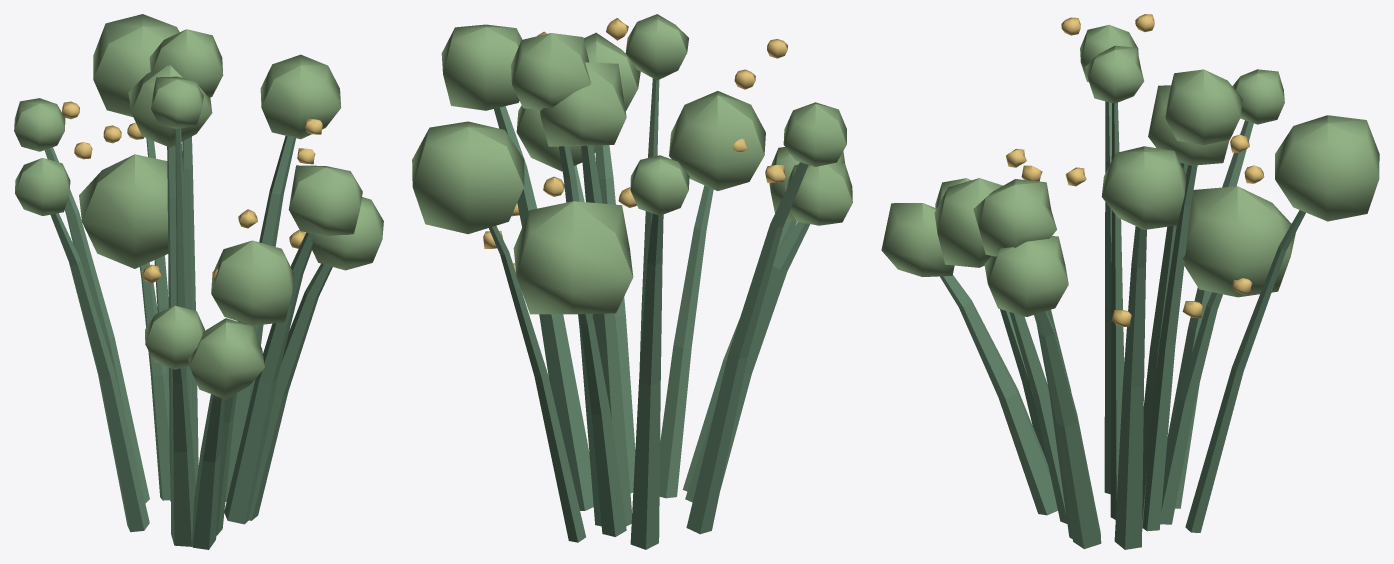
The model's file is dense-temperate-forest-flora-broom-bush-65990bb3__28367.glb.
3 views of the same model, side by side, from view 1: azimuth 30°, elevation 25°; view 2: azimuth 150°, elevation 25°; view 3: azimuth 270°, elevation 25° (orthographic). The views are drawn at different scales.
Visible parts, largest first — view 1: broom-bush; view 2: broom-bush; view 3: broom-bush.
Boxes of the visible parts, x1,y1,x2,y2 form: broom-bush: (14,14,383,549); broom-bush: (412,14,852,549); broom-bush: (881,14,1379,549).
Bounding box in the file's own units: 1.31 × 1.65 × 1.57.
